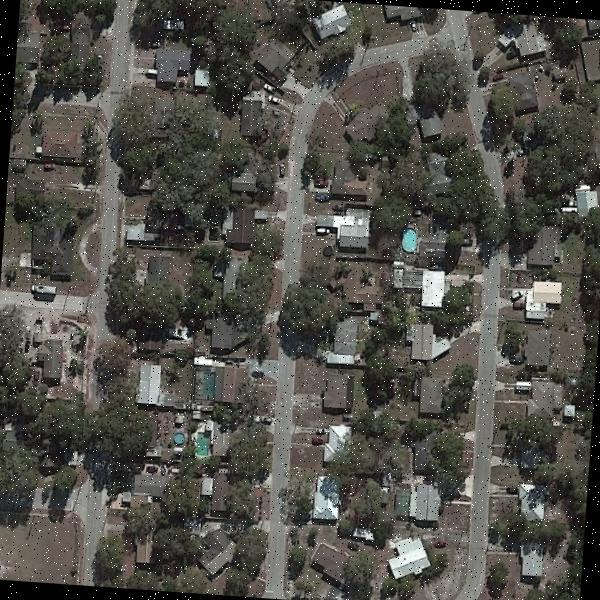Buildings: (513, 369, 564, 422), (36, 114, 84, 169), (28, 224, 72, 274), (34, 328, 74, 380), (312, 211, 364, 245), (201, 462, 232, 516), (304, 0, 349, 31), (529, 280, 563, 319), (144, 366, 183, 398), (422, 372, 447, 416), (392, 548, 430, 576), (318, 373, 350, 406), (390, 546, 430, 570), (128, 470, 168, 494), (204, 535, 232, 566), (226, 211, 252, 242), (314, 549, 342, 576)
